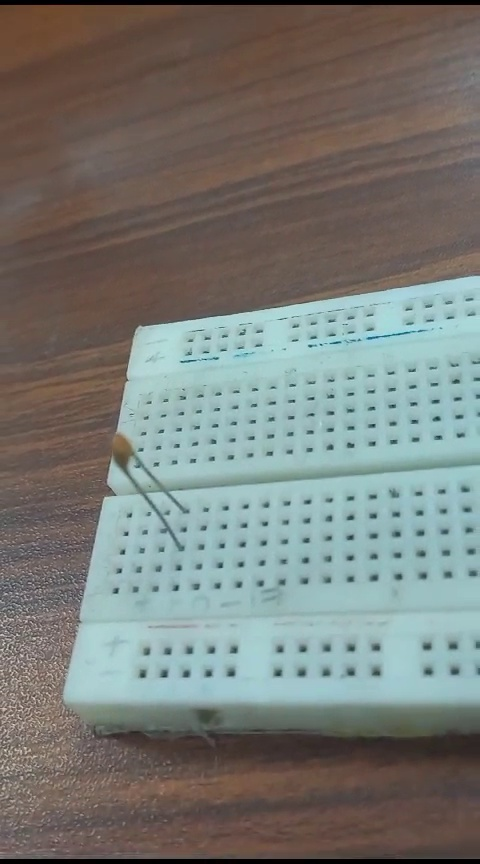ceramic capacitor: (102, 432, 187, 543)
